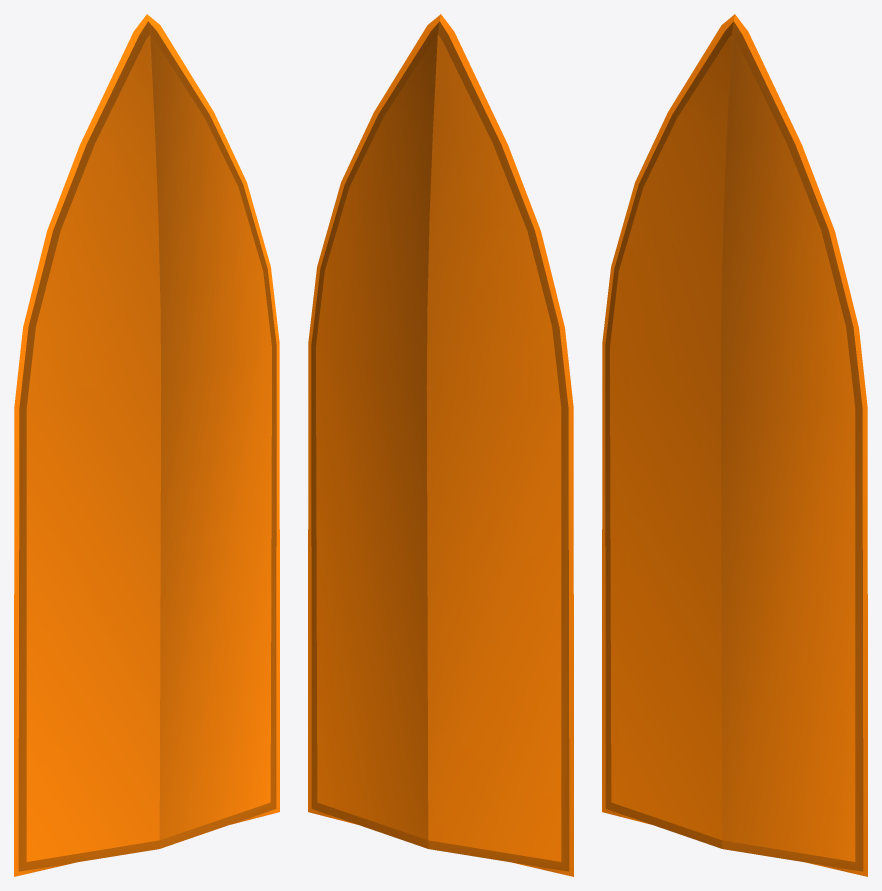
File: bronze_blade (8).glb
3 views of the same model, side by side, from view 1: azimuth 30°, elevation 25°; view 2: azimuth 150°, elevation 25°; view 3: azimuth 330°, elevation 25° (orthographic).
Parts seen in each view (by area): view 1: bronze_blade_steel.035; view 2: bronze_blade_steel.035; view 3: bronze_blade_steel.035.
Part boxes in pixels (box(x1,y1,x2,y2)): bronze_blade_steel.035: box(14, 14, 279, 876); bronze_blade_steel.035: box(308, 14, 573, 876); bronze_blade_steel.035: box(602, 14, 867, 876).
Size of the model in its own units: 3.82 by 11.43 by 0.706.
1 material, 1 textured.
